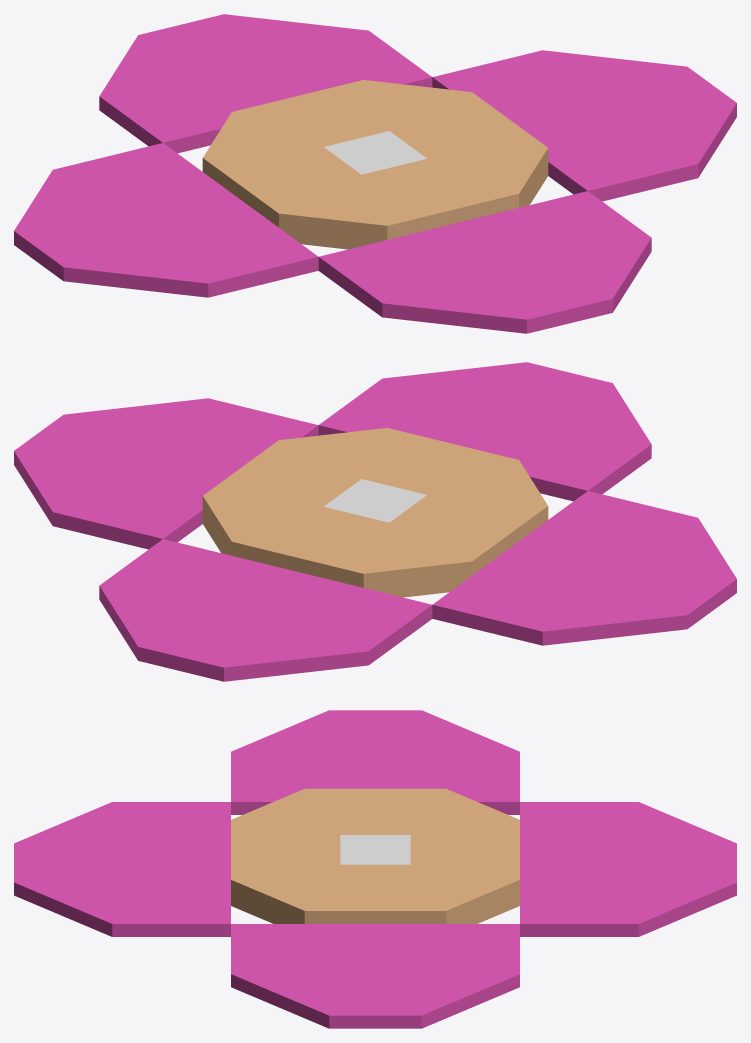
File: JumpFlower.fbx
3 renders of one model, top to bottom at view 1: azimuth 30°, elevation 25°; view 2: azimuth 150°, elevation 25°; view 3: azimuth 270°, elevation 25°, orthographic. The views are drawn at different scales.
Parts seen in each view (by area): view 1: JumpFlower; view 2: JumpFlower; view 3: JumpFlower.
Part boxes in pixels (x1,y1,x2,y2): JumpFlower: (14,14,736,333); JumpFlower: (14,362,736,681); JumpFlower: (14,710,736,1028).
Size of the model in its own units: 500 by 20 by 500.
